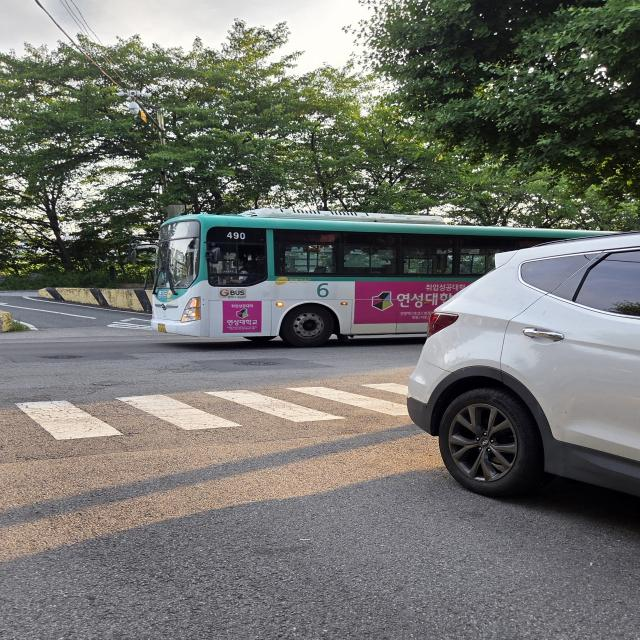car: (136, 208, 634, 350), (424, 234, 640, 505)
